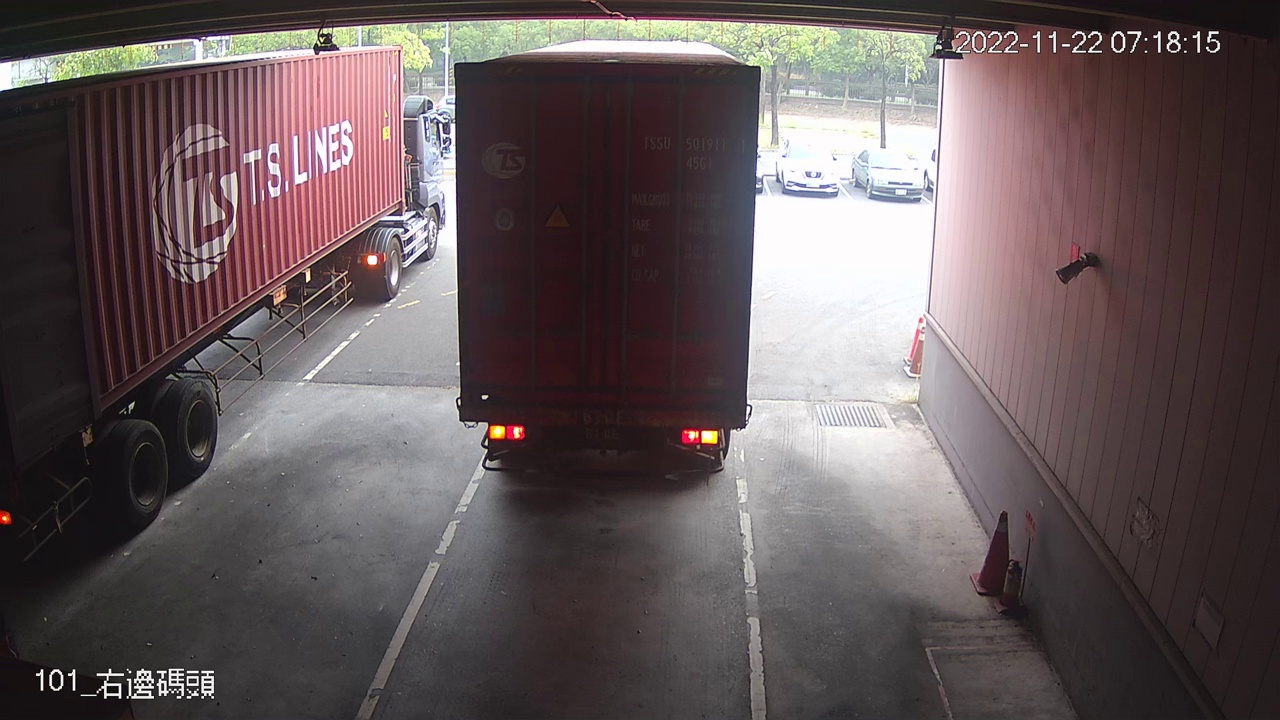container: (636, 127, 752, 176)
